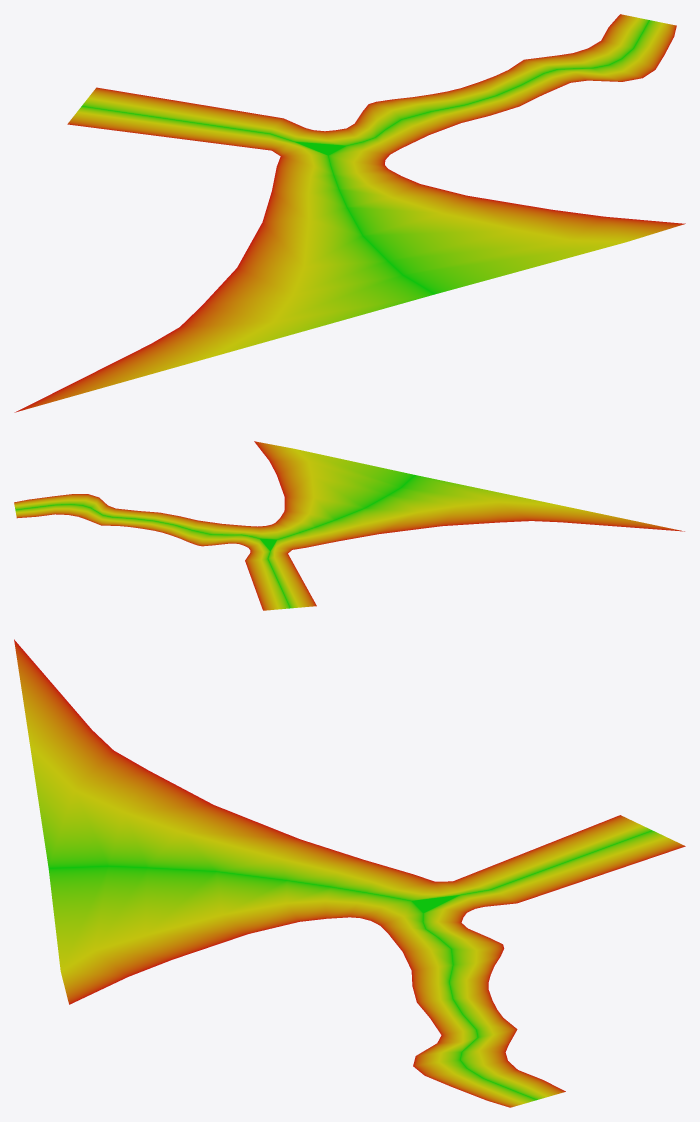
Rendered from TownRiver.glb.
3 renders of one model, top to bottom at view 1: azimuth 30°, elevation 25°; view 2: azimuth 150°, elevation 25°; view 3: azimuth 270°, elevation 25°, orthographic. The views are drawn at different scales.
Visible parts, largest first — view 1: TownRiver; view 2: TownRiver; view 3: TownRiver.
Part boxes in pixels (x1=…): TownRiver: x1=14, y1=14, x2=685, y2=412; TownRiver: x1=14, y1=441, x2=684, y2=610; TownRiver: x1=14, y1=639, x2=685, y2=1107.
Bounding box in the file's own units: 54.98 × 0 × 33.32.
